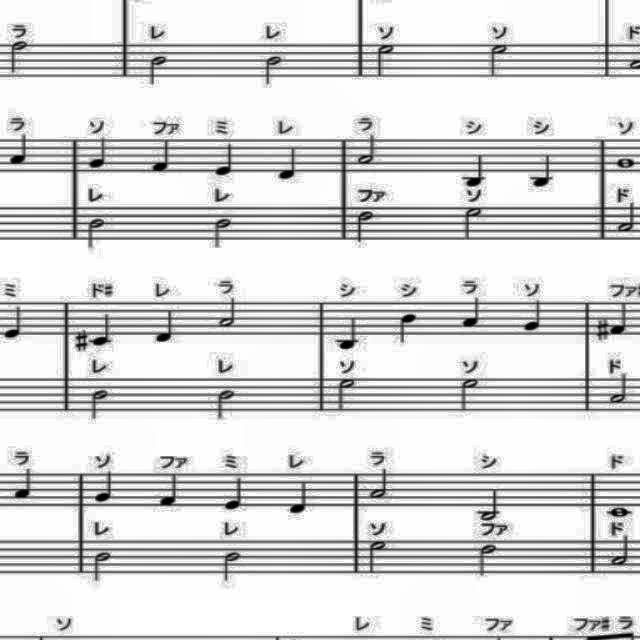Diez: (592, 312, 612, 343), (71, 326, 93, 354)
Full-note: (612, 154, 638, 174), (604, 504, 636, 520)
Half-note: (468, 485, 504, 523), (350, 206, 380, 248), (459, 204, 488, 246), (605, 532, 635, 572), (362, 537, 390, 579), (82, 385, 112, 423), (6, 38, 34, 78), (258, 52, 286, 92), (213, 294, 241, 334), (212, 384, 240, 424), (364, 466, 394, 502), (474, 542, 504, 578), (353, 132, 383, 168), (144, 51, 172, 89), (332, 375, 360, 413), (88, 546, 114, 586), (221, 547, 243, 593), (374, 40, 398, 82), (458, 374, 482, 416), (608, 368, 632, 408), (210, 214, 236, 250), (486, 40, 509, 80), (612, 199, 636, 237), (86, 216, 106, 250)
Quarter-note: (453, 150, 491, 190), (526, 149, 560, 191), (158, 470, 190, 510), (270, 144, 302, 183), (149, 306, 179, 346), (285, 478, 315, 518), (88, 310, 116, 352), (453, 295, 487, 329), (81, 133, 111, 171), (520, 298, 548, 338), (92, 466, 120, 506), (220, 472, 248, 512), (392, 310, 421, 346), (149, 136, 175, 176), (210, 136, 234, 178), (336, 316, 364, 352), (5, 133, 31, 169), (3, 302, 24, 346), (608, 298, 630, 340), (13, 465, 37, 503)
